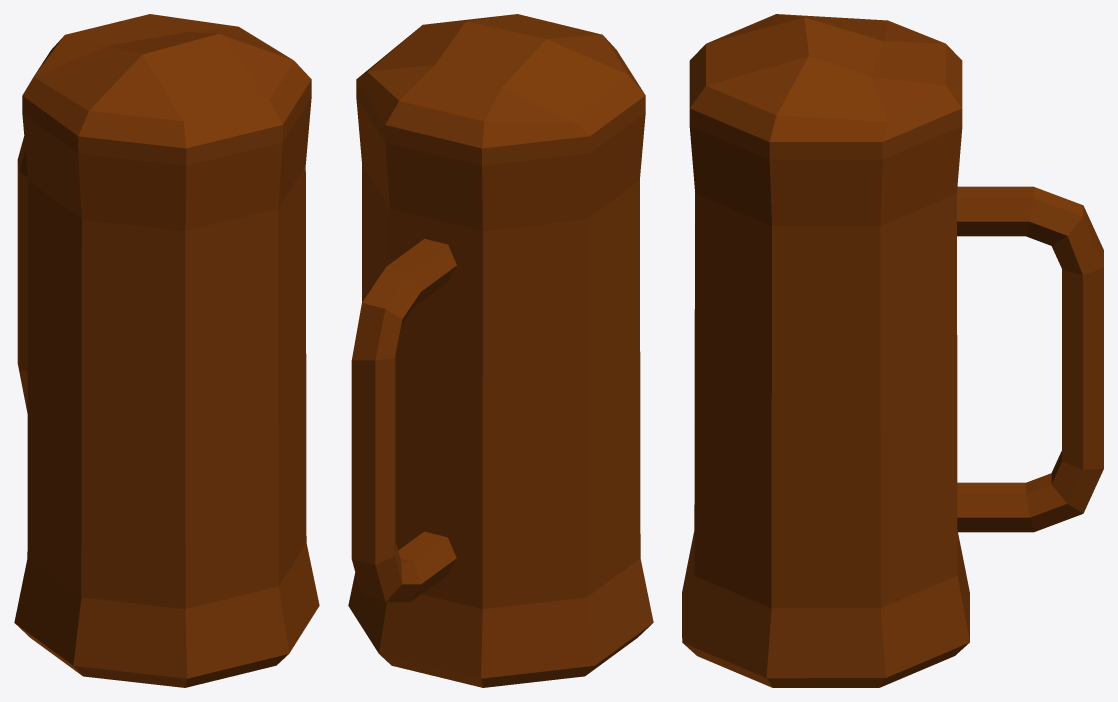
Rendered from SM_Prop_Bar_Glass_02.obj.
3 views of the same model, side by side, from view 1: azimuth 30°, elevation 25°; view 2: azimuth 150°, elevation 25°; view 3: azimuth 270°, elevation 25° (orthographic).
Visible parts, largest first — view 1: SM_Prop_Bar_Glass_02_0; view 2: SM_Prop_Bar_Glass_02_0; view 3: SM_Prop_Bar_Glass_02_0.
Part boxes in pixels (box(x1,y1,x2,y2)): SM_Prop_Bar_Glass_02_0: box(14, 14, 319, 687); SM_Prop_Bar_Glass_02_0: box(348, 14, 653, 687); SM_Prop_Bar_Glass_02_0: box(682, 14, 1103, 687).
Bounding box in the file's own units: 0.1585 × 0.3636 × 0.2322.
